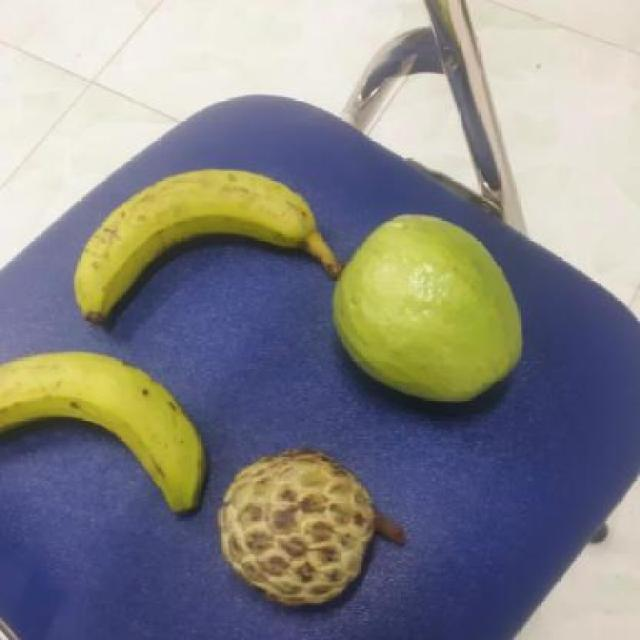banana: (78, 169, 347, 328), (0, 348, 212, 517)
guava: (330, 220, 530, 402)
sugar apple: (221, 449, 407, 609)
